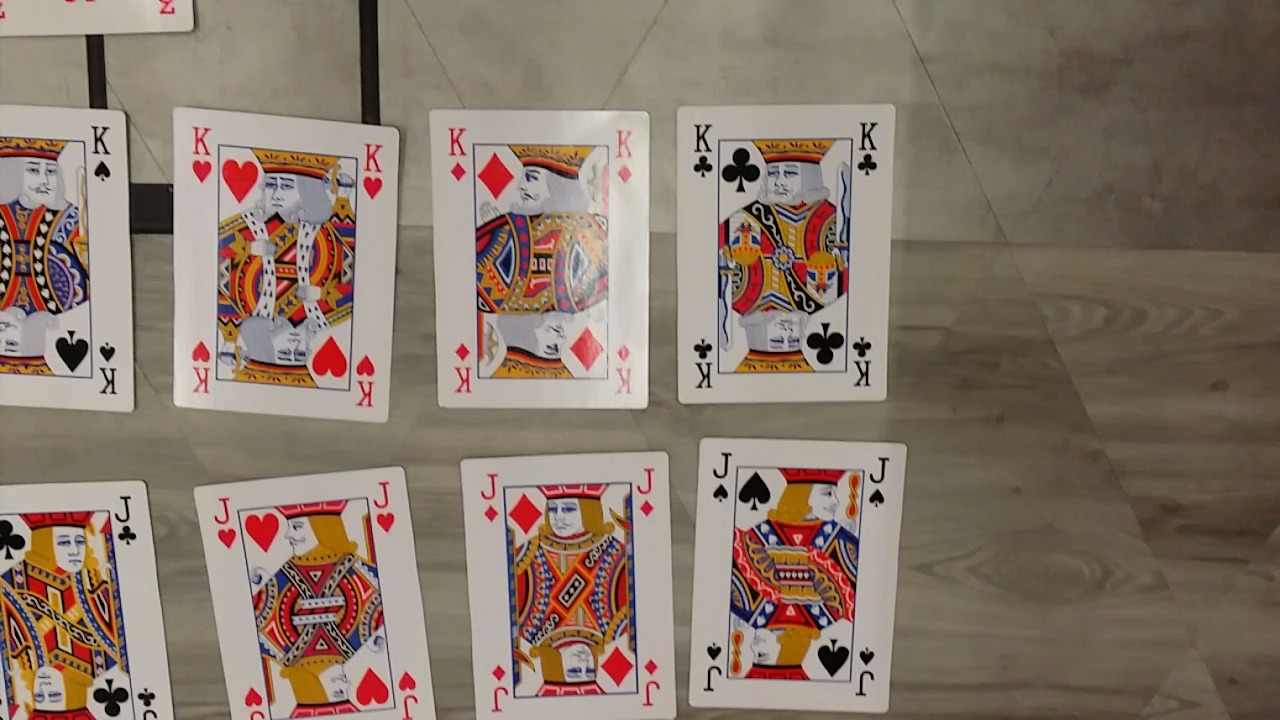10_diamond: (459, 448, 678, 720)
jack_club: (0, 476, 177, 720)
jack_heart: (193, 463, 436, 720)
jack_spade: (683, 434, 911, 713)
king_club: (677, 101, 887, 404)
king_diamond: (431, 105, 651, 408)
king_heart: (170, 104, 403, 424)
king_spade: (0, 104, 139, 415)
